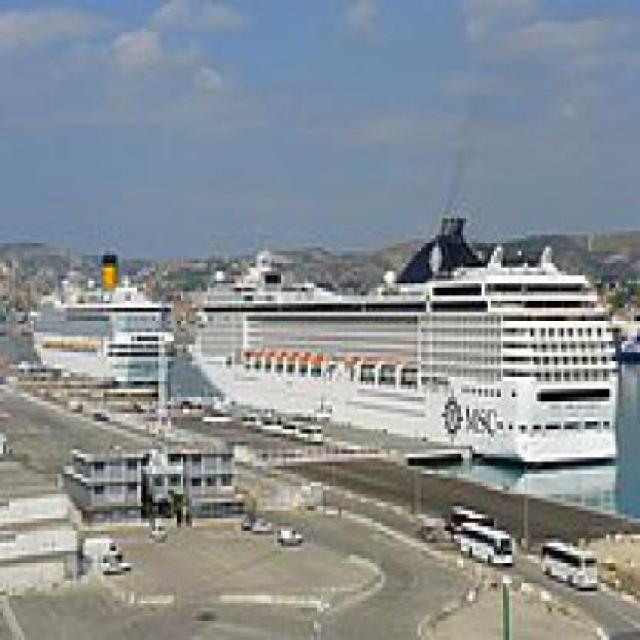cruise: (187, 248, 632, 471), (29, 244, 181, 398)
